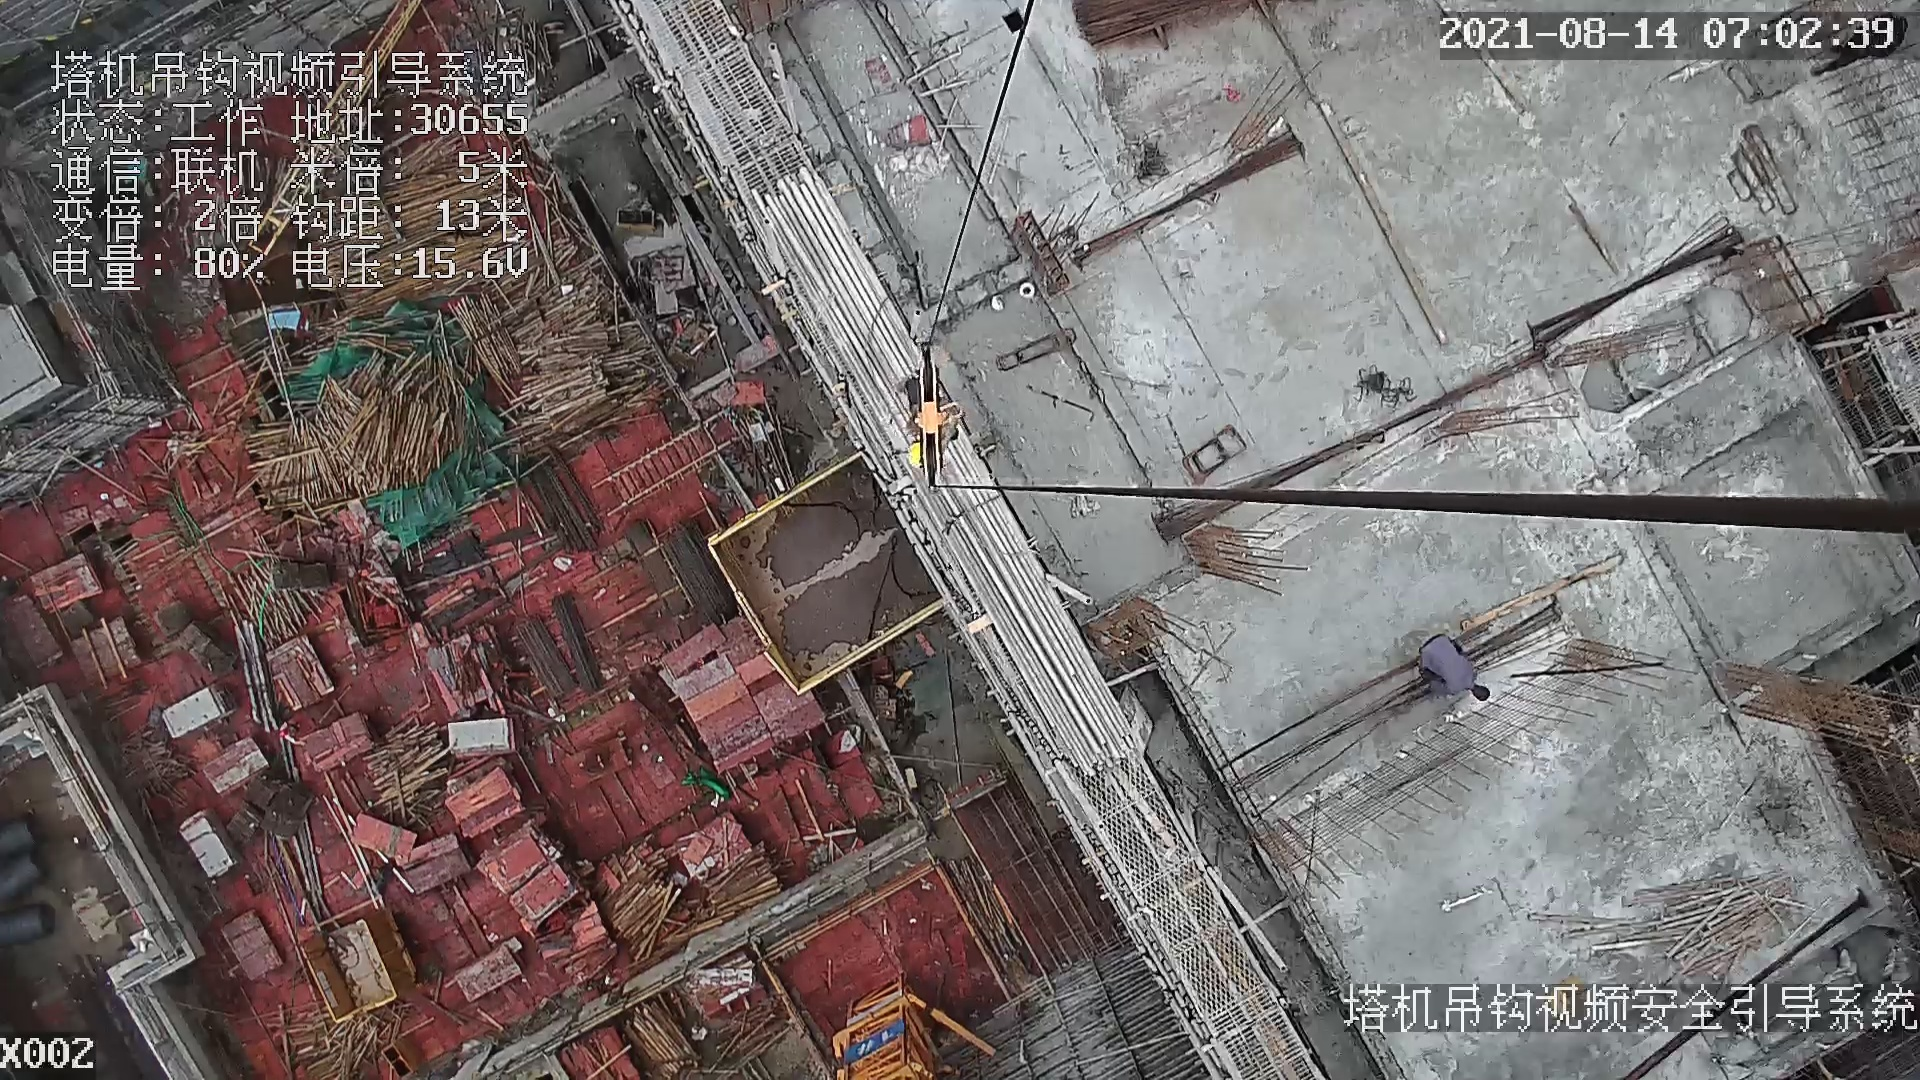hook: (915, 356, 962, 492)
person: (1415, 631, 1494, 704)
slogan: (846, 1009, 905, 1058)
